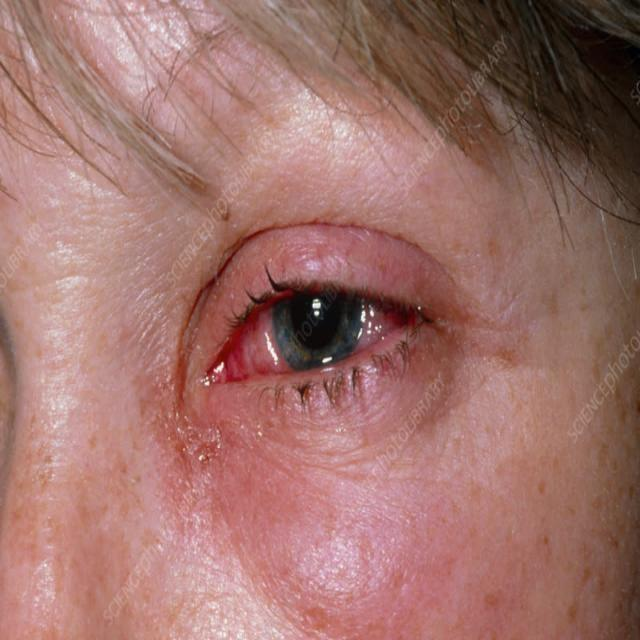Conjunctivitis: (194, 284, 428, 378)
